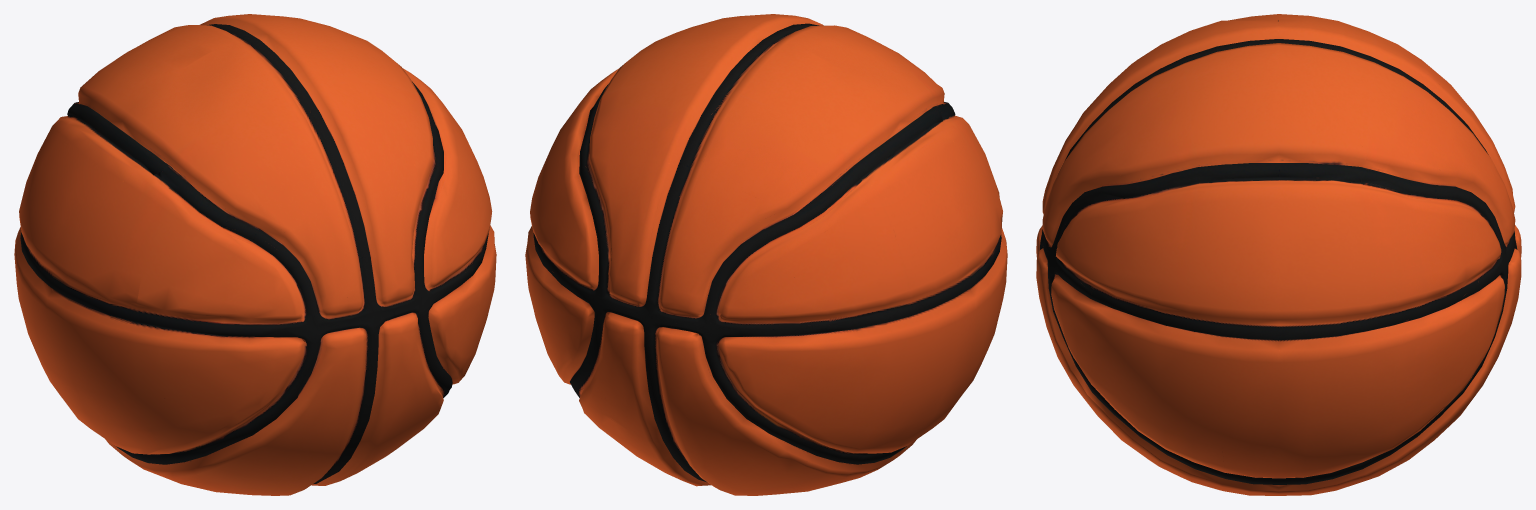
The model's file is Meshy_AI_Basketball_Close_Up_20261028_texture.fbx.
The picture shows the model from 3 angles, left to right: view 1: azimuth 30°, elevation 25°; view 2: azimuth 150°, elevation 25°; view 3: azimuth 270°, elevation 25°; orthographic projection.
Visible parts, largest first — view 1: Mesh_0; view 2: Mesh_0; view 3: Mesh_0.
Part boxes in pixels (x1,y1,x2,y2): Mesh_0: (14,14,496,495); Mesh_0: (525,14,1007,495); Mesh_0: (1036,14,1521,495).
Size of the model in its own units: 95.56 by 95.17 by 95.07.
1 material, 1 textured.
